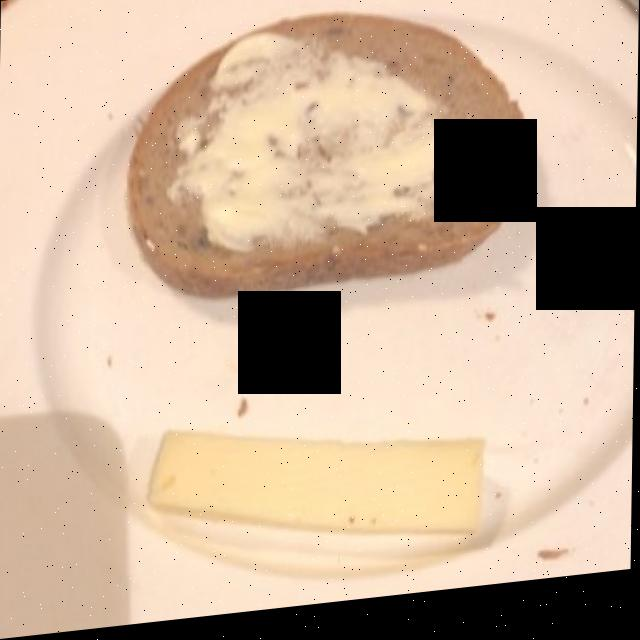bread-whole-wheat: (131, 18, 523, 295)
butter: (182, 46, 485, 253)
cheese: (153, 433, 478, 538)
